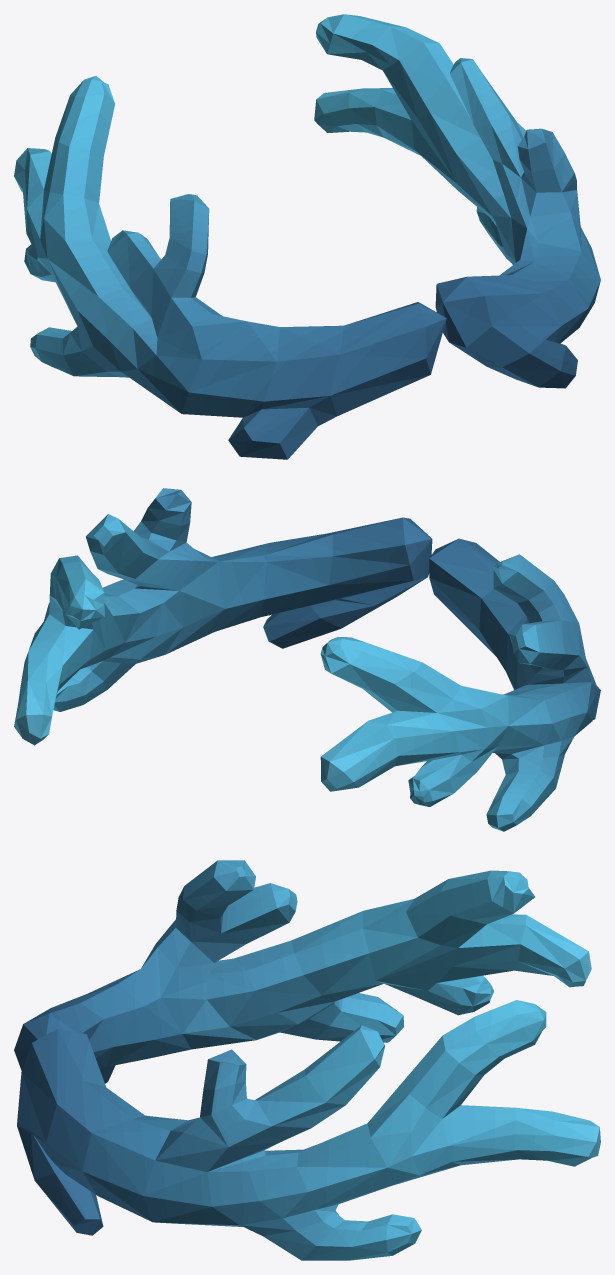
The model's file is CharSkyKid_Horn_Coral_01.glb.
The picture shows the model from 3 angles, top to bottom: view 1: azimuth 30°, elevation 25°; view 2: azimuth 150°, elevation 25°; view 3: azimuth 270°, elevation 25°; orthographic projection. The views are drawn at different scales.
Parts seen in each view (by area): view 1: CharSkyKid_Horn_Coral_01; view 2: CharSkyKid_Horn_Coral_01; view 3: CharSkyKid_Horn_Coral_01.
Part boxes in pixels (<box>): CharSkyKid_Horn_Coral_01: <box>14,14,600,459</box>; CharSkyKid_Horn_Coral_01: <box>14,488,600,831</box>; CharSkyKid_Horn_Coral_01: <box>14,860,600,1260</box>.
Bounding box in the file's own units: 3.06 × 1.33 × 3.03.
Materials: 1 (1 with a texture image).
